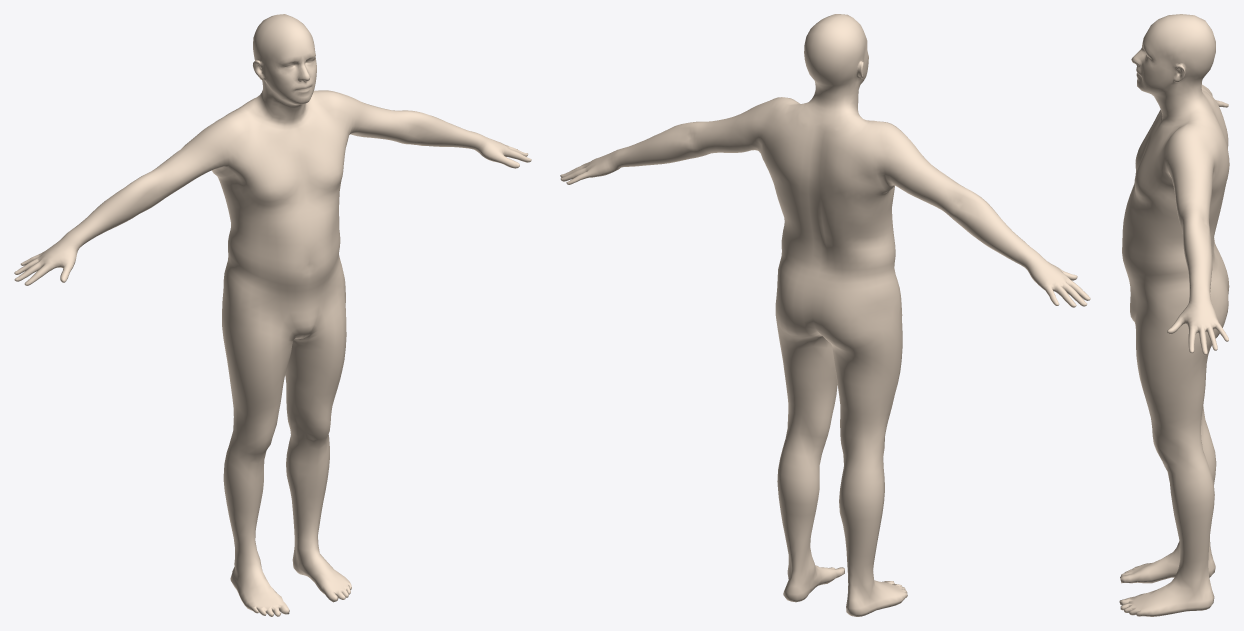
The model's file is human_avatar_a_pose_male.glb.
3 views of the same model, side by side, from view 1: azimuth 30°, elevation 25°; view 2: azimuth 150°, elevation 25°; view 3: azimuth 270°, elevation 25° (orthographic). The views are drawn at different scales.
Parts seen in each view (by area): view 1: HumanoidAvatar_male_A-pose; view 2: HumanoidAvatar_male_A-pose; view 3: HumanoidAvatar_male_A-pose.
Part boxes in pixels (x1,y1,x2,y2): HumanoidAvatar_male_A-pose: (14, 14, 531, 616); HumanoidAvatar_male_A-pose: (560, 14, 1090, 616); HumanoidAvatar_male_A-pose: (1119, 14, 1229, 616).
Bounding box in the file's own units: 1.69 × 1.79 × 0.3087.
